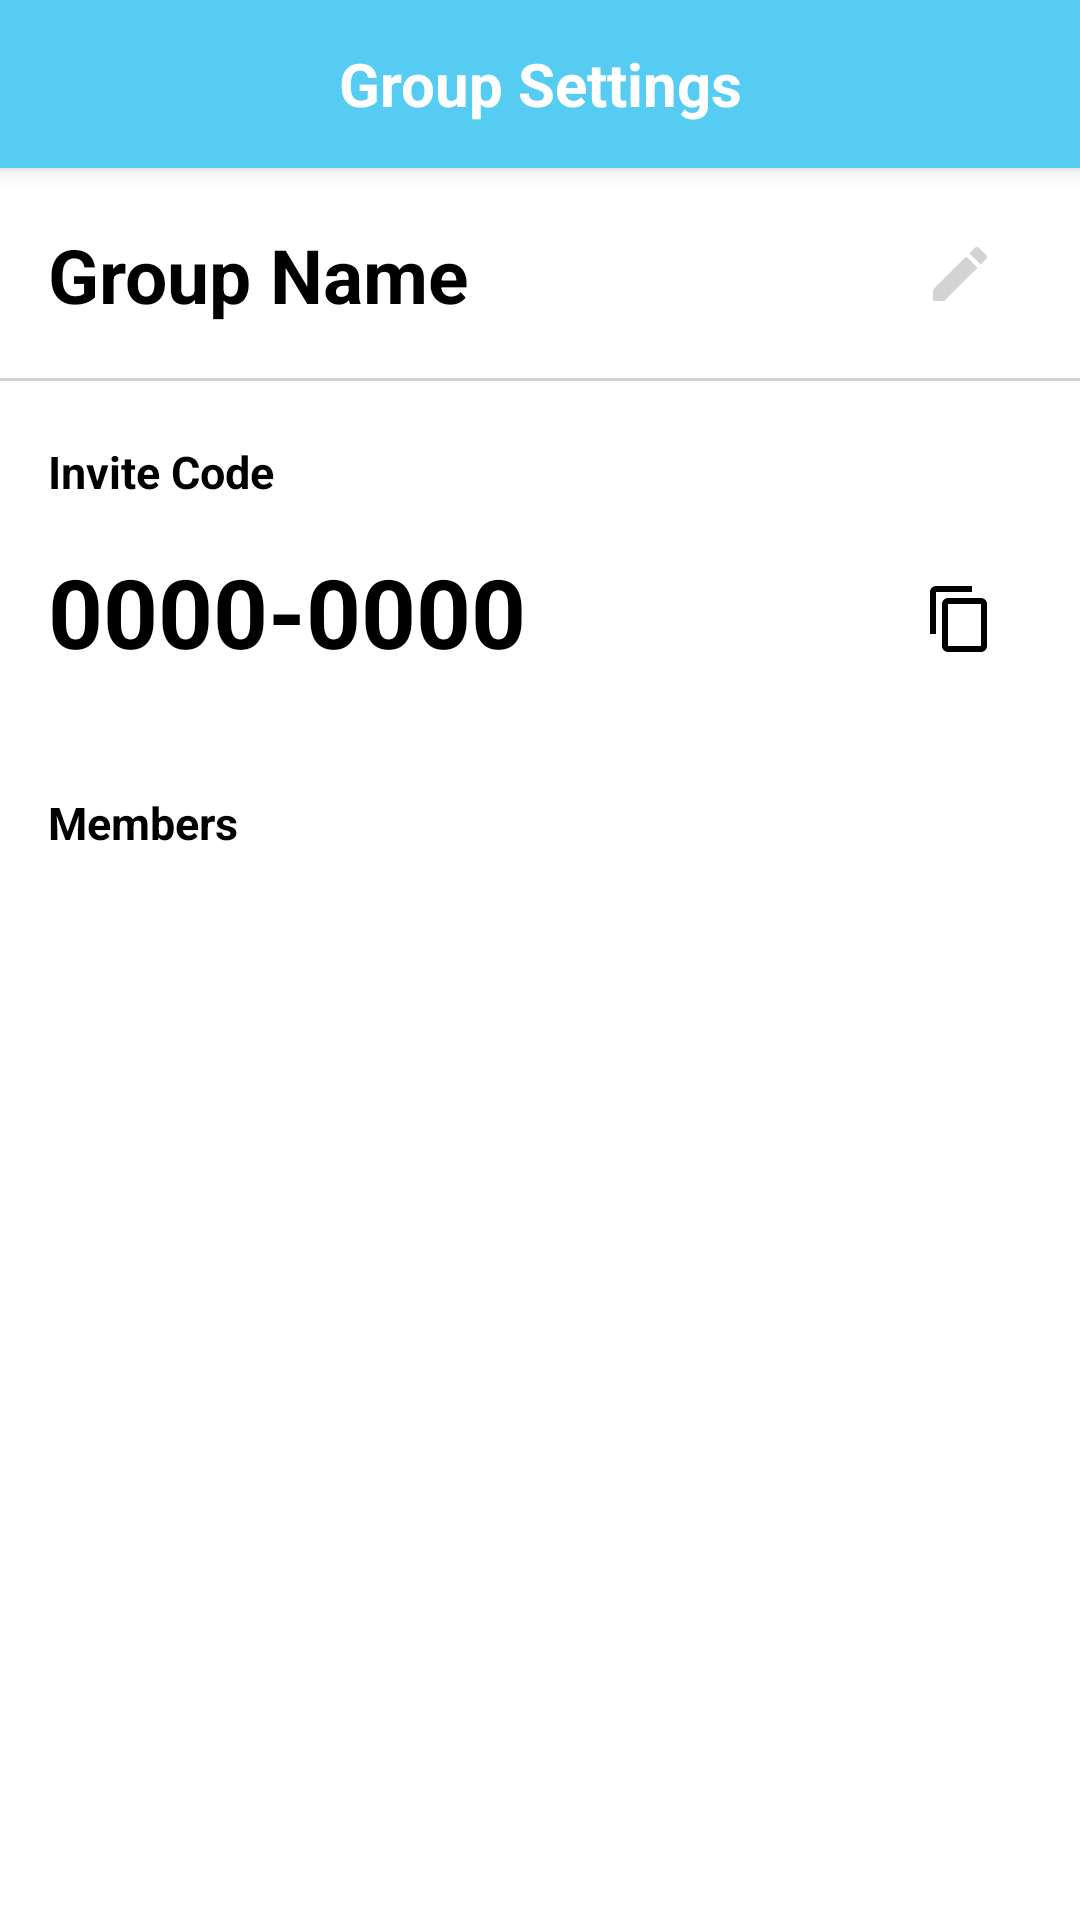

Named icons in this screenshot (1080w x 1920h) and their bounding boxes, (x1, y1, x2, y2):
Copy Invite Code: (930, 586, 987, 652)
Edit Group Name: (933, 247, 987, 301)
